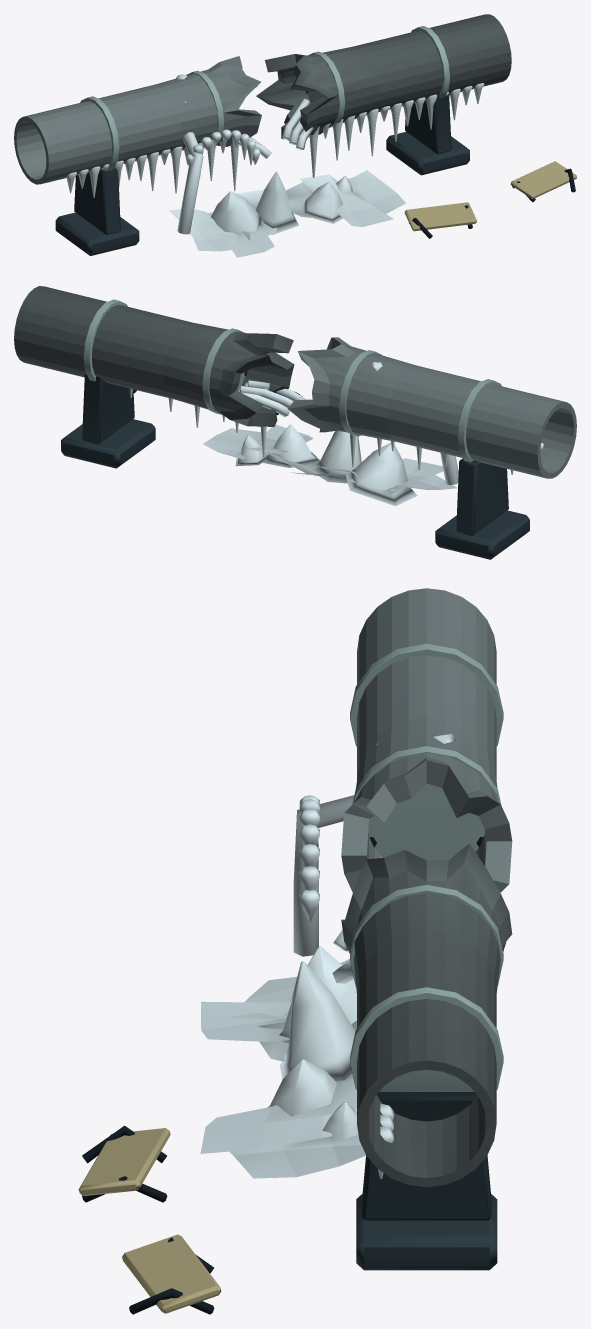
The model's file is header.glb.
The picture shows the model from 3 angles, top to bottom: view 1: azimuth 30°, elevation 25°; view 2: azimuth 150°, elevation 25°; view 3: azimuth 270°, elevation 25°; orthographic projection. The views are drawn at different scales.
Parts seen in each view (by area): view 1: frozen-header--p11-steel, frozen-header--p11-frost, frozen-header--e9-body, frozen-header--p11-tint, frozen-header--e9-trim, frozen-pump-jacket--p11-frost, frozen-header--e9-dark; view 2: frozen-header--p11-steel, frozen-header--e9-body, frozen-header--p11-frost, frozen-header--e9-trim, frozen-pump-jacket--p11-frost; view 3: frozen-header--p11-steel, frozen-header--p11-frost, frozen-header--e9-body, frozen-header--e9-trim, frozen-header--p11-tint, frozen-pump-jacket--p11-frost, frozen-header--e9-dark.
Part boxes in pixels (x1,y1,x2,y2): frozen-header--p11-steel: (14,14,511,184); frozen-header--p11-frost: (66,83,484,257); frozen-header--e9-body: (55,94,469,255); frozen-header--p11-tint: (404,161,576,231); frozen-header--e9-trim: (80,26,449,169); frozen-pump-jacket--p11-frost: (176,74,260,234); frozen-header--e9-dark: (306,91,575,238); frozen-header--p11-steel: (14,286,576,478); frozen-header--e9-body: (61,374,529,559); frozen-header--p11-frost: (129,380,543,506); frozen-header--e9-trim: (83,299,501,462); frozen-pump-jacket--p11-frost: (371,362,458,485); frozen-header--p11-steel: (341,588,512,1187); frozen-header--p11-frost: (200,857,393,1178); frozen-header--e9-body: (356,1092,497,1270); frozen-header--e9-trim: (350,643,503,1091); frozen-header--p11-tint: (78,1128,221,1313); frozen-pump-jacket--p11-frost: (293,734,455,956); frozen-header--e9-dark: (82,837,483,1314).
Bounding box in the file's own units: 7.78 × 2.33 × 3.04.
